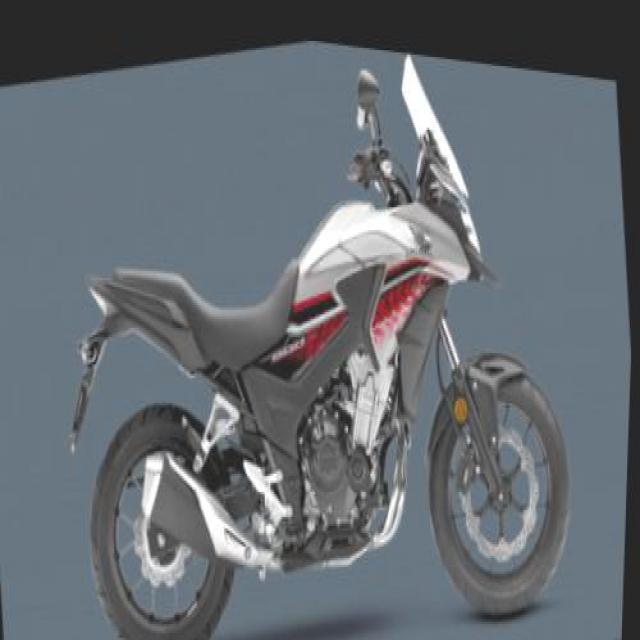CB500X: (34, 5, 596, 638)
